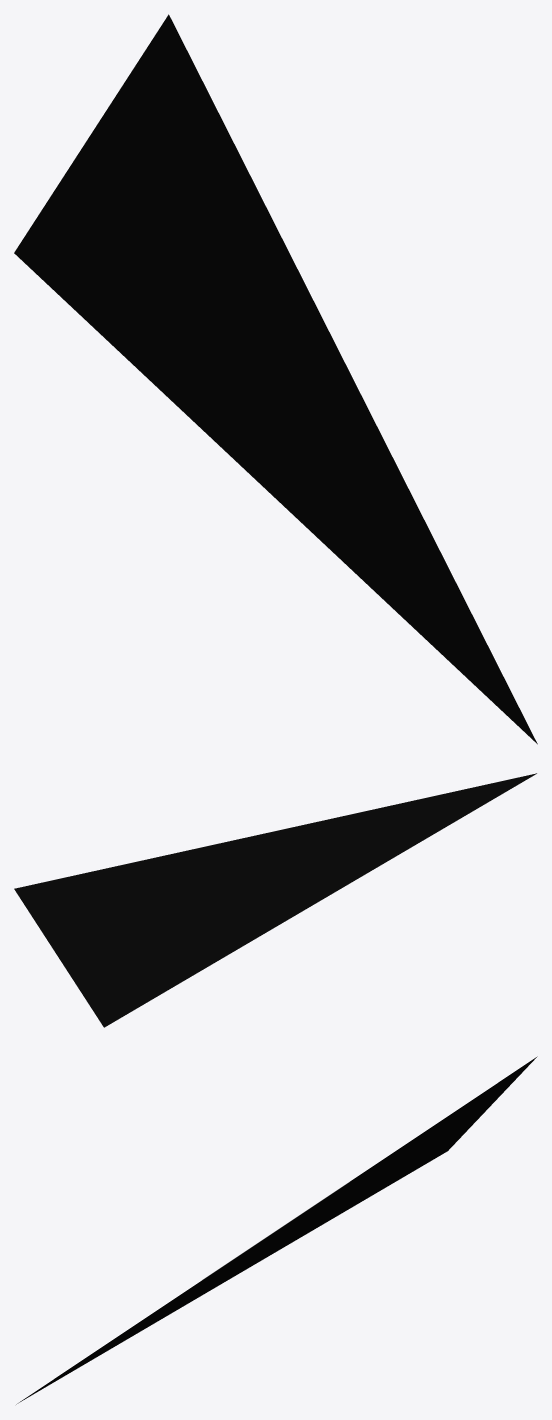
3 renders of one model, top to bottom at view 1: azimuth 30°, elevation 25°; view 2: azimuth 150°, elevation 25°; view 3: azimuth 330°, elevation 25°, orthographic. The views are drawn at different scales.
Bounding box in the file's own units: 0.8053 × 0.5826 × 3.33.
Materials: 1 (1 with a texture image).
